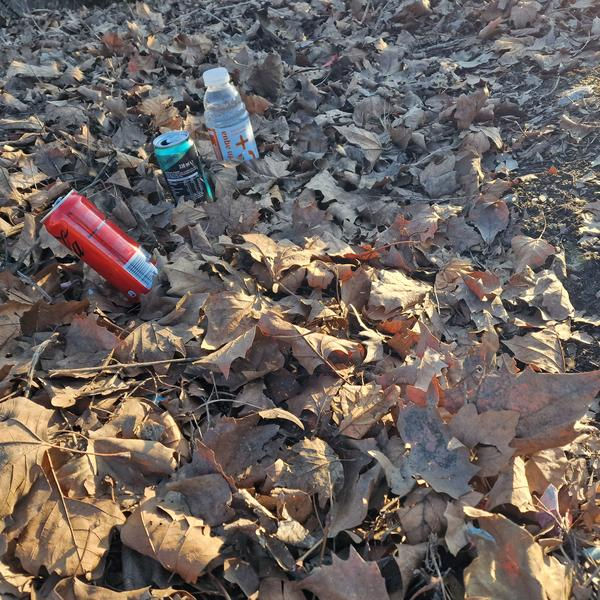can: (38, 184, 169, 307), (148, 123, 217, 215)
plastic_bottle: (192, 62, 262, 174)
